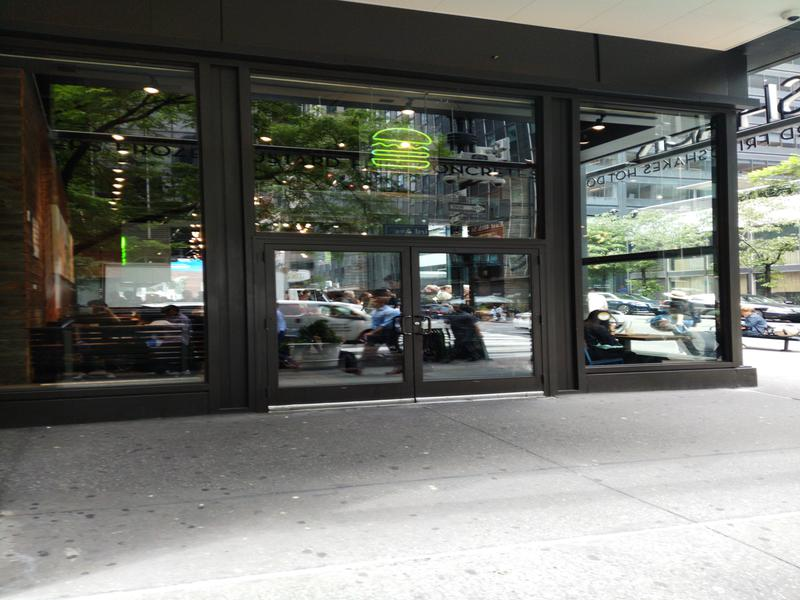double_door: (260, 231, 558, 403)
